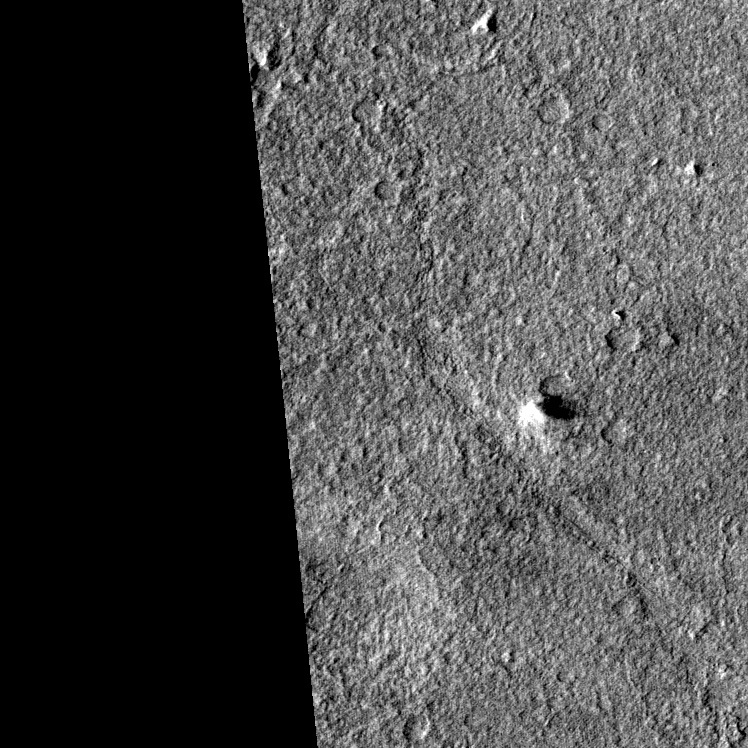dust_devil: (515, 390, 585, 429)
